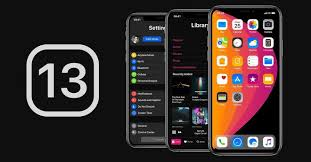iphone: (204, 1, 289, 158)
iphone6: (205, 1, 290, 157)
